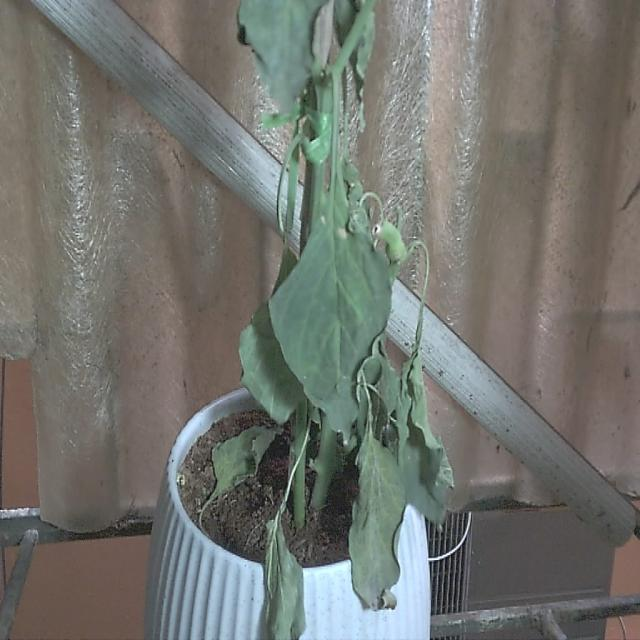Leaf: (270, 206, 392, 445), (348, 437, 404, 609), (260, 516, 305, 640)
